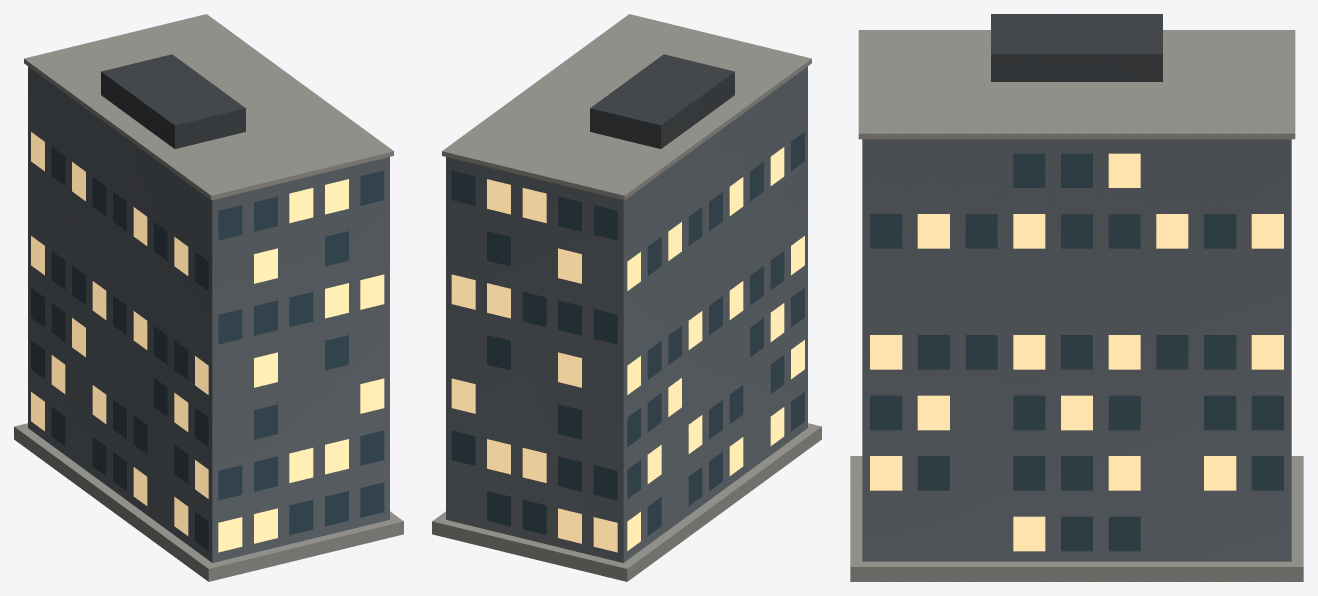
The model's file is marina-office_far.glb.
3 renders of one model, left to right at view 1: azimuth 30°, elevation 25°; view 2: azimuth 150°, elevation 25°; view 3: azimuth 270°, elevation 25°, orthographic. The views are drawn at different scales.
Visible parts, largest first — view 1: facade-mineral, concrete, glazing, window-emissive-mask, dark-steel; view 2: facade-mineral, concrete, glazing, window-emissive-mask, dark-steel; view 3: facade-mineral, concrete, glazing, window-emissive-mask, dark-steel.
Boxes of the visible parts, x1,y1,x2,y2 form: facade-mineral: (28,66,389,562); concrete: (14,14,403,581); glazing: (31,147,384,550); window-emissive-mask: (31,132,384,552); dark-steel: (101,54,245,148); facade-mineral: (446,66,807,562); concrete: (432,14,821,581); glazing: (451,132,804,535); window-emissive-mask: (451,147,804,552); dark-steel: (590,54,734,148); facade-mineral: (862,139,1291,561); concrete: (850,30,1303,581); glazing: (870,153,1283,551); window-emissive-mask: (870,153,1283,551); dark-steel: (991,14,1162,81).
Bounding box in the file's own units: 11 × 21.85 × 19.
Materials: 5 (3 with a texture image).
